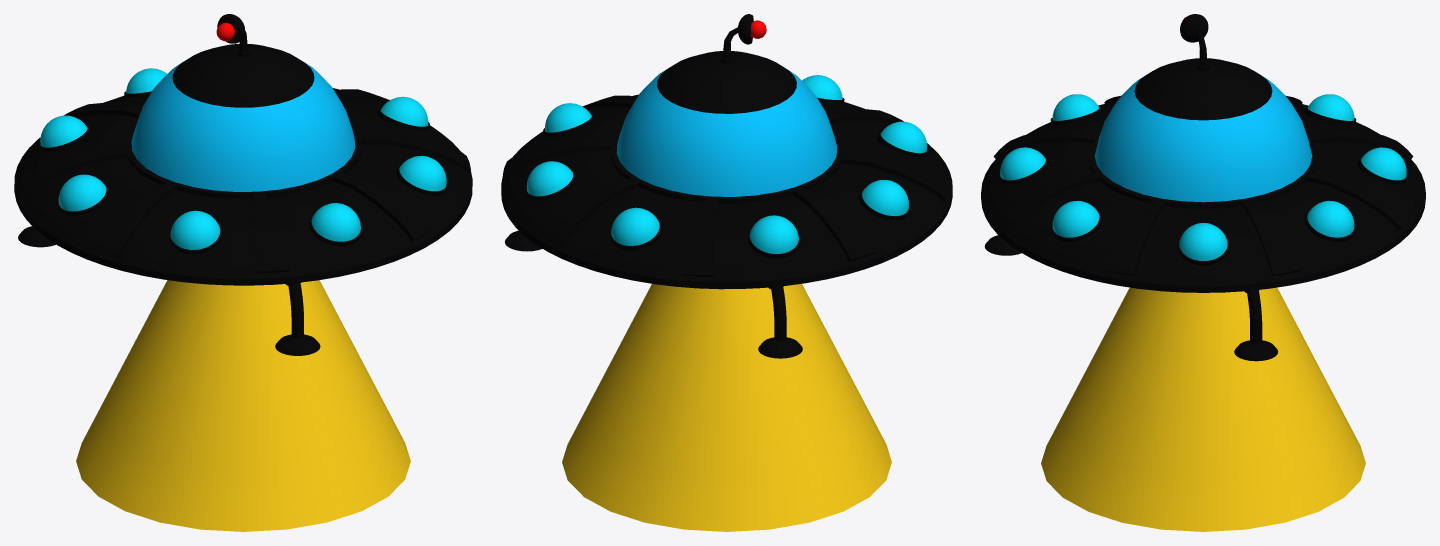
The model's file is retroufo_glow.dae.
3 renders of one model, left to right at view 1: azimuth 30°, elevation 25°; view 2: azimuth 150°, elevation 25°; view 3: azimuth 270°, elevation 25°, orthographic. The views are drawn at different scales.
Parts seen in each view (by area): view 1: Cone01, Cylinder02, Sphere09 (×2), Sphere03, Sphere05, Cylinder04, Sphere01, Sphere07, Sphere08, Sphere02, Sphere06; view 2: Cone01, Cylinder02, Sphere09 (×2), Sphere08, Sphere06, Cylinder07, Sphere01, Sphere04, Sphere03, Sphere02, Sphere05; view 3: Cone01, Cylinder02, Sphere09 (×2), Sphere02, Sphere04, Sphere07, Cylinder10, Sphere05, Sphere06, Sphere03, Sphere08, Sphere24.
Boxes of the visible parts, left/top/right/bottom form: Cone01: left=76, top=280, right=410, bottom=531; Cylinder02: left=14, top=88, right=472, bottom=285; Sphere09 (×2): left=125, top=43, right=361, bottom=198; Sphere03: left=170, top=210, right=220, bottom=249; Sphere05: left=311, top=203, right=360, bottom=241; Cylinder04: left=275, top=282, right=320, bottom=355; Sphere01: left=58, top=174, right=106, bottom=211; Sphere07: left=399, top=155, right=446, bottom=191; Sphere08: left=40, top=115, right=87, bottom=147; Sphere02: left=380, top=96, right=428, bottom=126; Sphere06: left=126, top=68, right=166, bottom=93; Cone01: left=562, top=283, right=891, bottom=531; Cylinder02: left=501, top=94, right=952, bottom=289; Sphere09 (×2): left=610, top=51, right=843, bottom=203; Sphere08: left=749, top=215, right=798, bottom=253; Sphere06: left=611, top=207, right=659, bottom=245; Cylinder07: left=758, top=286, right=802, bottom=358; Sphere01: left=862, top=180, right=908, bottom=216; Sphere04: left=526, top=161, right=573, bottom=196; Sphere03: left=880, top=121, right=927, bottom=153; Sphere02: left=545, top=103, right=591, bottom=132; Sphere05: left=802, top=75, right=842, bottom=99; Cone01: left=1041, top=287, right=1365, bottom=531; Cylinder02: left=981, top=96, right=1425, bottom=292; Sphere09 (×2): left=1088, top=58, right=1318, bottom=208; Sphere02: left=1179, top=223, right=1227, bottom=260; Sphere04: left=1307, top=200, right=1354, bottom=237; Sphere07: left=1052, top=200, right=1099, bottom=237; Cylinder10: left=1234, top=290, right=1277, bottom=361; Sphere05: left=1000, top=147, right=1045, bottom=180; Sphere06: left=1361, top=147, right=1406, bottom=180; Sphere03: left=1052, top=94, right=1099, bottom=120; Sphere08: left=1307, top=94, right=1354, bottom=120; Sphere24: left=1180, top=14, right=1208, bottom=42.
Size of the model in its own units: 146 by 160 by 146.
